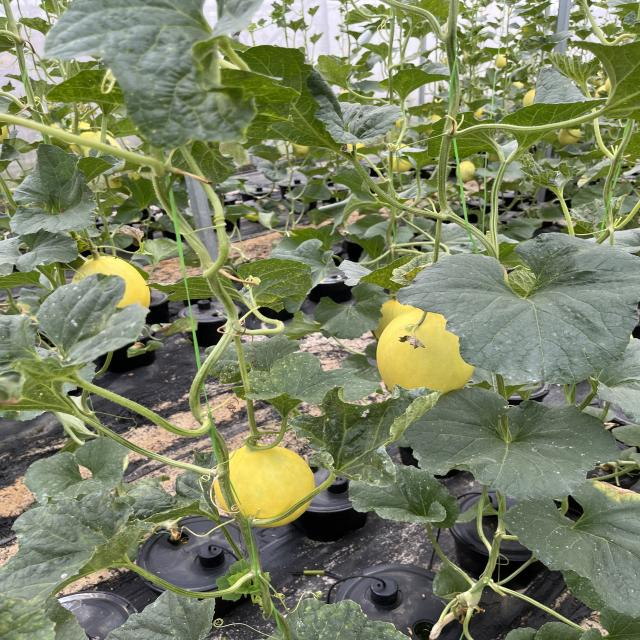CMV: (228, 48, 342, 146)
SLCV: (1, 492, 156, 601), (288, 384, 448, 486), (130, 470, 215, 530), (519, 156, 586, 198), (563, 198, 634, 235)
alternaria leaf blight: (500, 478, 640, 618)
bacterial wilt: (398, 334, 425, 351)
downy mildew: (396, 234, 640, 383), (0, 488, 156, 603), (242, 351, 382, 412), (208, 258, 315, 314), (579, 43, 640, 119), (0, 239, 86, 274)
healthy: (394, 387, 620, 502), (8, 143, 106, 235), (346, 464, 461, 526), (501, 74, 585, 156), (104, 590, 216, 640), (372, 59, 460, 108), (340, 106, 404, 148)
powdery mildew: (507, 486, 640, 617), (286, 384, 444, 489), (35, 273, 158, 365)
